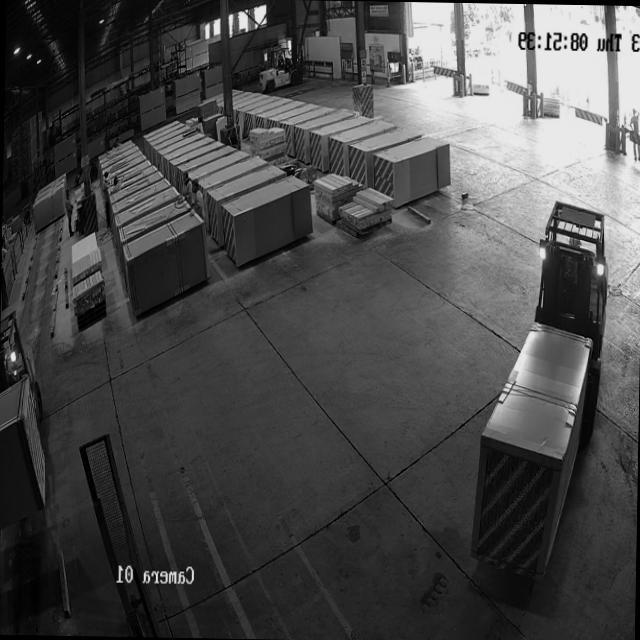forklift: (535, 200, 613, 336)
person: (187, 176, 203, 216), (65, 190, 72, 233), (101, 172, 109, 205)
